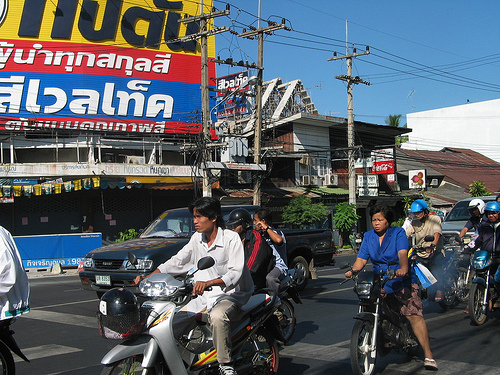helmet: (227, 206, 252, 228), (465, 194, 488, 213), (409, 197, 429, 215), (483, 199, 500, 215)
